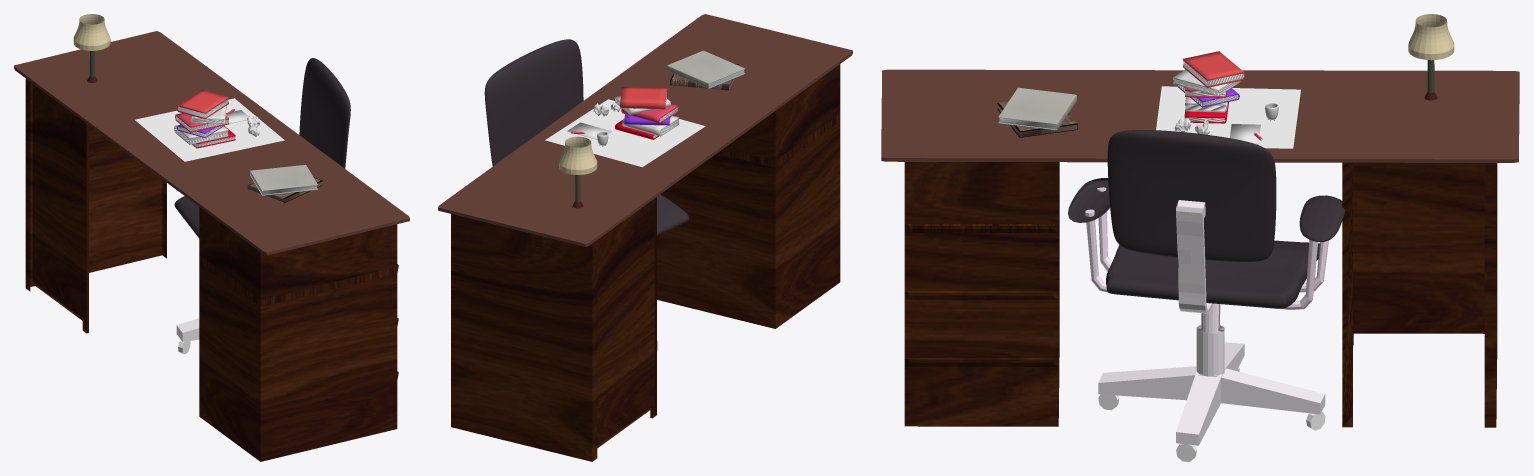
The model's file is desk.glb.
The picture shows the model from 3 angles, left to right: view 1: azimuth 30°, elevation 25°; view 2: azimuth 150°, elevation 25°; view 3: azimuth 270°, elevation 25°; orthographic projection. The views are drawn at different scales.
Visible parts, largest first — view 1: Cube.001, Cube, Cube.002, Book_Case, chair.002, Book.001, Cube.003, Cube.004, Cube.005, Cylinder.003, Book; view 2: Cube.002, Cube, Cube.001, chair.002, Book_Case, Book.001, Cube.005, Cube.004, Cylinder.003, Cube.003; view 3: chair.002, Cube, Cube.001, Cube.002, Book_Case, Book.001, Cylinder.003, Cube.003, Cube.004, Cube.005, Book.
Boxes of the visible parts, <box> form: Cube.001: <box>199,207,397,461</box>; Cube: <box>14,31,409,255</box>; Cube.002: <box>25,78,166,333</box>; Book_Case: <box>135,90,284,161</box>; chair.002: <box>174,58,350,354</box>; Book.001: <box>250,164,317,195</box>; Cube.003: <box>199,255,398,306</box>; Cube.004: <box>199,308,398,360</box>; Cube.005: <box>199,362,398,413</box>; Cylinder.003: <box>73,14,110,50</box>; Book: <box>247,177,322,203</box>; Cube.002: <box>451,197,656,461</box>; Cube: <box>438,14,852,246</box>; Cube.001: <box>657,64,840,328</box>; chair.002: <box>484,39,689,350</box>; Book_Case: <box>545,87,705,167</box>; Book.001: <box>667,50,745,88</box>; Cube.005: <box>657,225,840,279</box>; Cube.004: <box>660,170,840,223</box>; Cylinder.003: <box>559,136,597,174</box>; Cube.003: <box>717,114,840,167</box>; chair.002: <box>1068,130,1345,461</box>; Cube: <box>881,69,1519,162</box>; Cube.001: <box>904,162,1059,426</box>; Cube.002: <box>1342,162,1497,427</box>; Book_Case: <box>1156,51,1300,148</box>; Book.001: <box>998,87,1076,130</box>; Cylinder.003: <box>1408,14,1454,60</box>; Cube.003: <box>904,162,1059,233</box>; Cube.004: <box>904,222,1059,299</box>; Cube.005: <box>904,289,1059,366</box>; Book: <box>997,101,1077,137</box>.
Bounding box in the file's own units: 0.7846 × 1.03 × 1.7.
23 materials, 4 textured.
